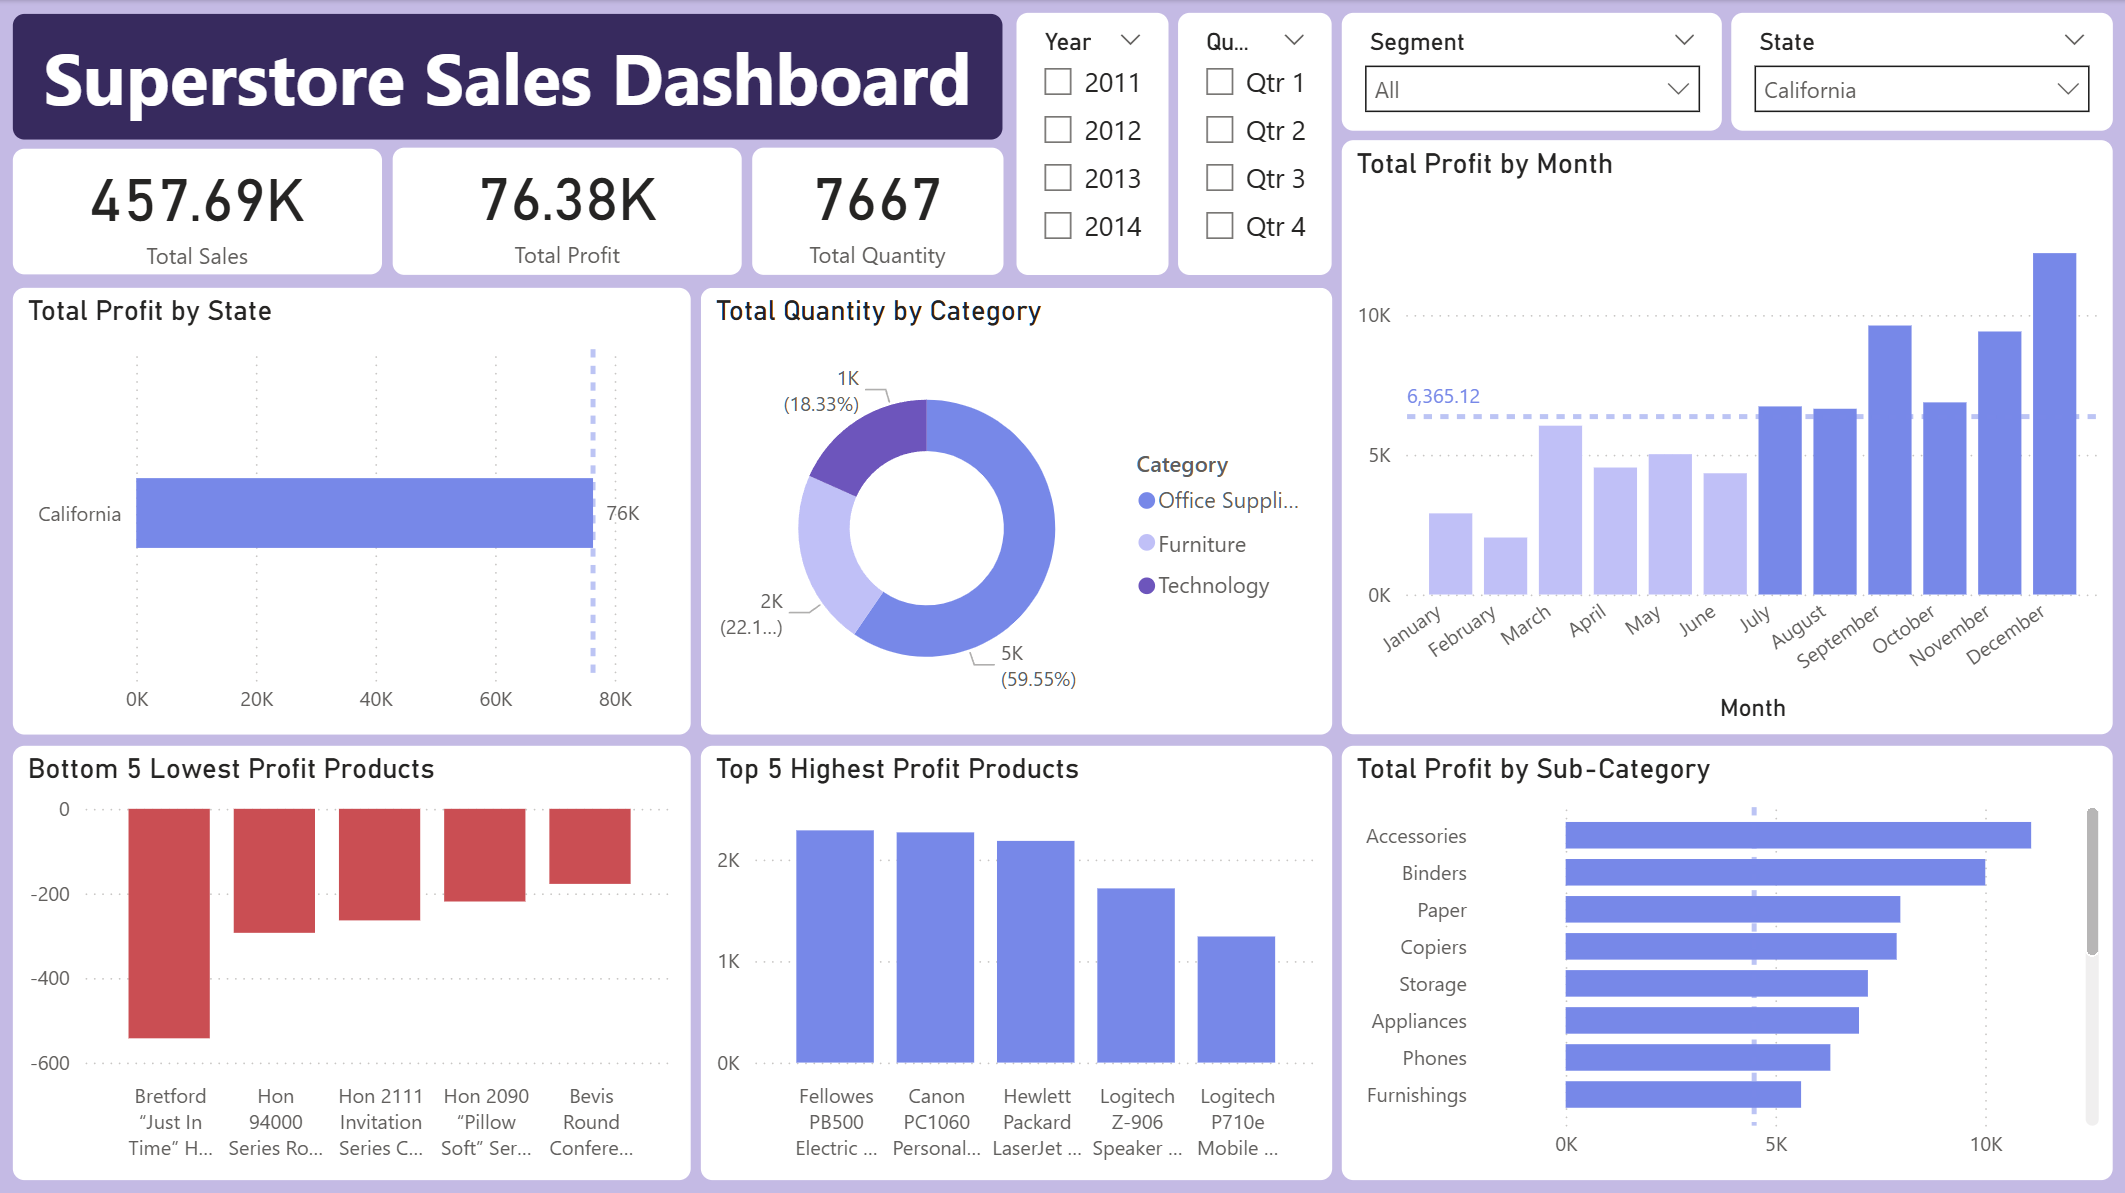

Layout of this report page (visuals, bound fields, positions):
{"tool":"powerbi","page":{"name":"Superstore Sales Dashboard","canvas":[1280,720],"ordinal":0},"visuals":[{"type":"card","fields":{"Values":["Sum(FactSales.Sales)"]},"box":[7.8,89.6,222.3,75.8],"z":0},{"type":"card","fields":{"Values":["Sum(FactSales.Profit)"]},"box":[236.7,88.9,210.5,76.5],"z":1000},{"type":"card","fields":{"Values":["Sum(FactSales.Quantity)"]},"box":[453.1,88.9,151,76.5],"z":2000},{"type":"slicer","fields":{"Values":["FactSales.Order Date.Variation.Date Hierarchy.Year"]},"box":[612.6,7.8,91.5,157.6],"z":3000},{"type":"slicer","fields":{"Values":["FactSales.Order Date.Variation.Date Hierarchy.Quarter"]},"box":[710,7.8,92.8,157.6],"z":4000},{"type":"clusteredBarChart","title":"Total Profit by State","fields":{"Y":["Sum(FactSales.Profit)"],"Category":["DimLocation.State"]},"box":[7.8,173.3,408,269.4],"z":5000},{"type":"donutChart","title":"Total Quantity by Category","fields":{"Y":["Sum(FactSales.Quantity)"],"Category":["DimProduct.Category"]},"box":[422.4,173.3,380.5,269.4],"z":6000},{"type":"clusteredColumnChart","title":"Total Profit by Month","fields":{"Category":["FactSales.Order Date.Variation.Date Hierarchy.Month"],"Y":["Sum(FactSales.Profit)"]},"box":[808.1,84.3,464.9,358.3],"z":7000},{"type":"slicer","fields":{"Values":["FactSales.Segment"]},"box":[808.1,7.8,229.4,70.6],"z":8000},{"type":"textbox","box":[7.8,8.5,596.3,75.8],"z":9000},{"type":"clusteredBarChart","title":"Total Profit by Sub-Category","fields":{"Y":["Sum(FactSales.Profit)"],"Category":["DimProduct.Sub-Category"]},"box":[808.1,449.2,464.9,261.5],"z":10000},{"type":"slicer","fields":{"Values":["DimLocation.State"]},"box":[1043.3,7.8,229.7,70.6],"z":11000},{"type":"clusteredColumnChart","title":"Top 5 Highest Profit Products","fields":{"Y":["Sum(FactSales.Profit)"],"Category":["DimProduct.Product Name"]},"box":[422.4,449.2,380.5,261.5],"z":12000},{"type":"clusteredColumnChart","title":"Bottom 5 Lowest Profit Products","fields":{"Y":["Sum(FactSales.Profit)"],"Category":["DimProduct.Product Name"]},"box":[7.8,449.2,408,261.5],"z":13000}]}

Visuals, with their boxes in screenshot pixels (x1, y1, x2, y2), scaled from the page's 1280x720 canvas onto the 2125x1193 screenshot:
card - Sum(FactSales.Sales): detection(13, 148, 382, 274)
card - Sum(FactSales.Profit): detection(393, 147, 742, 274)
card - Sum(FactSales.Quantity): detection(752, 147, 1003, 274)
slicer - FactSales.Order Date.Variation.Date Hierarchy.Year: detection(1017, 13, 1169, 274)
slicer - FactSales.Order Date.Variation.Date Hierarchy.Quarter: detection(1179, 13, 1333, 274)
"Total Profit by State" clusteredBarChart: detection(13, 287, 690, 734)
"Total Quantity by Category" donutChart: detection(701, 287, 1333, 734)
"Total Profit by Month" clusteredColumnChart: detection(1342, 140, 2113, 733)
slicer - FactSales.Segment: detection(1342, 13, 1722, 130)
textbox: detection(13, 14, 1003, 140)
"Total Profit by Sub-Category" clusteredBarChart: detection(1342, 744, 2113, 1178)
slicer - DimLocation.State: detection(1732, 13, 2113, 130)
"Top 5 Highest Profit Products" clusteredColumnChart: detection(701, 744, 1333, 1178)
"Bottom 5 Lowest Profit Products" clusteredColumnChart: detection(13, 744, 690, 1178)
